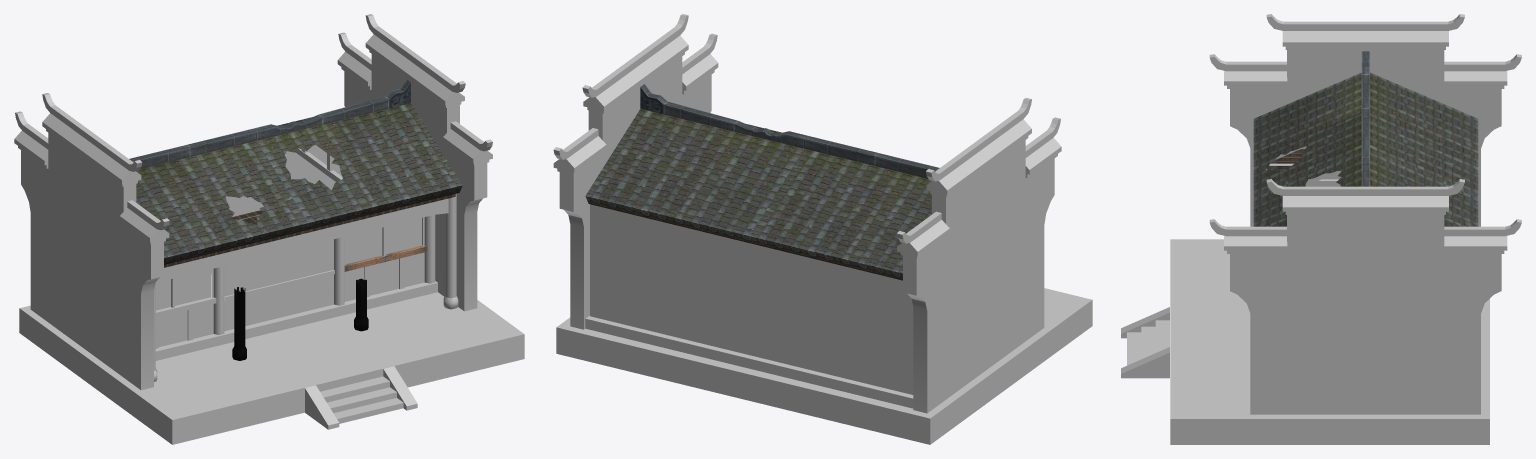
File: 房子整体破损.fbx
The picture shows the model from 3 angles, left to right: view 1: azimuth 30°, elevation 25°; view 2: azimuth 150°, elevation 25°; view 3: azimuth 270°, elevation 25°; orthographic projection. The views are drawn at different scales.
Visible parts, largest first — view 1: Box092, Box001, Box011, Box162, Box226, 对象020, 对象025, 对象016, 图形002, 对象026, 对象024, 对象023 (+2 smaller); view 2: Box162, Box011, Box001, Box092, Box226, 图形002; view 3: Box226, Box092, Box001, Box011, 对象026, 对象025, 对象024, 图形002, 对象019.
Boxes of the visible parts, x1,y1,x2,y2 form: Box092: (19, 274, 524, 444); Box001: (14, 93, 169, 390); Box011: (136, 103, 462, 264); Box162: (155, 145, 437, 360); Box226: (337, 14, 492, 311); 对象020: (224, 239, 334, 331); 对象025: (256, 121, 386, 222); 对象016: (155, 194, 455, 334); 图形002: (129, 80, 410, 168); 对象026: (178, 141, 280, 199); 对象024: (203, 180, 307, 241); 对象023: (154, 193, 458, 381); Box162: (585, 204, 913, 408); Box011: (585, 108, 932, 280); Box001: (896, 98, 1061, 413); Box092: (556, 288, 1092, 444); Box226: (553, 14, 718, 329); 图形002: (640, 84, 939, 178); Box226: (1209, 179, 1521, 414); Box092: (1121, 239, 1489, 444); Box001: (1209, 14, 1521, 226); Box011: (1253, 72, 1478, 226); 对象026: (1309, 112, 1361, 173); 对象025: (1253, 152, 1361, 226); 对象024: (1253, 134, 1309, 197); 图形002: (1361, 51, 1369, 186); 对象019: (1269, 146, 1340, 186).
Bounding box in the file's own units: 271 × 180 × 255.
